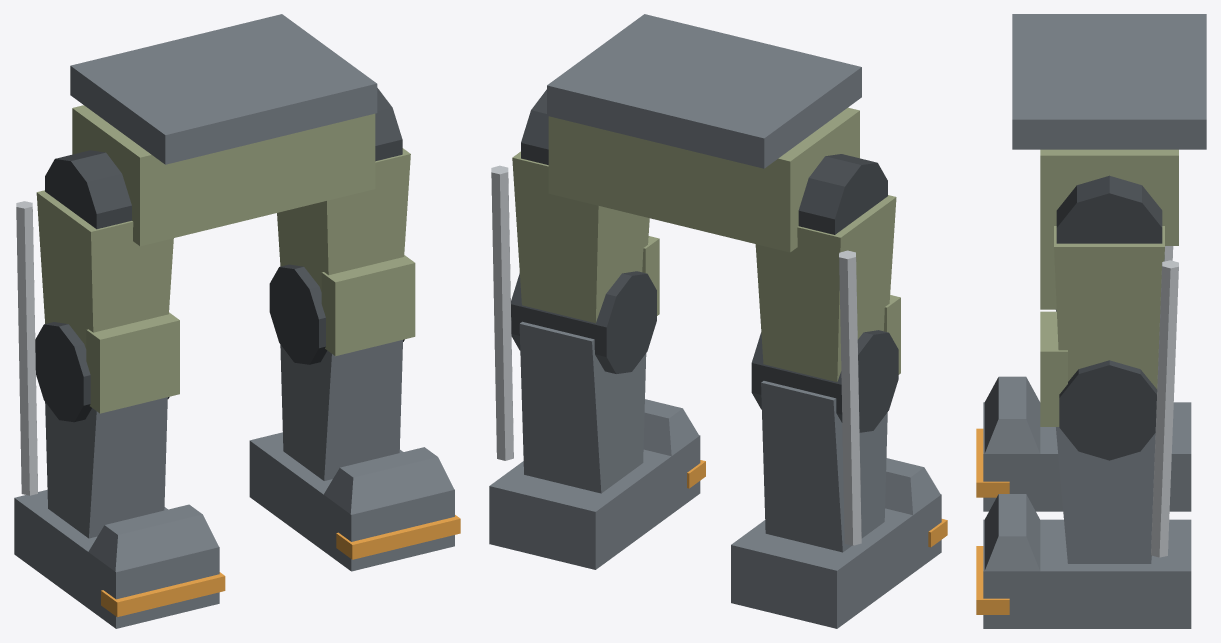
Rendered from mod-line-mech-legs-26808.glb.
3 renders of one model, left to right at view 1: azimuth 30°, elevation 25°; view 2: azimuth 150°, elevation 25°; view 3: azimuth 270°, elevation 25°, orthographic. The views are drawn at different scales.
Size of the model in its own units: 6.37 by 8.01 by 3.5.
